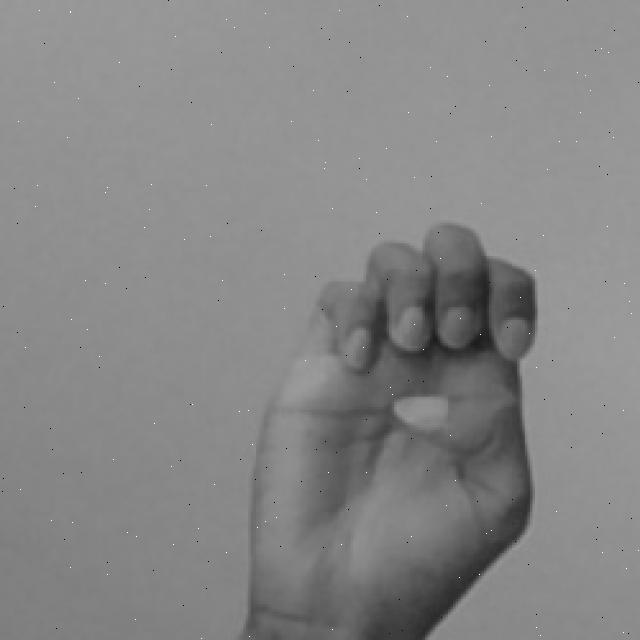E: (241, 220, 535, 640)
